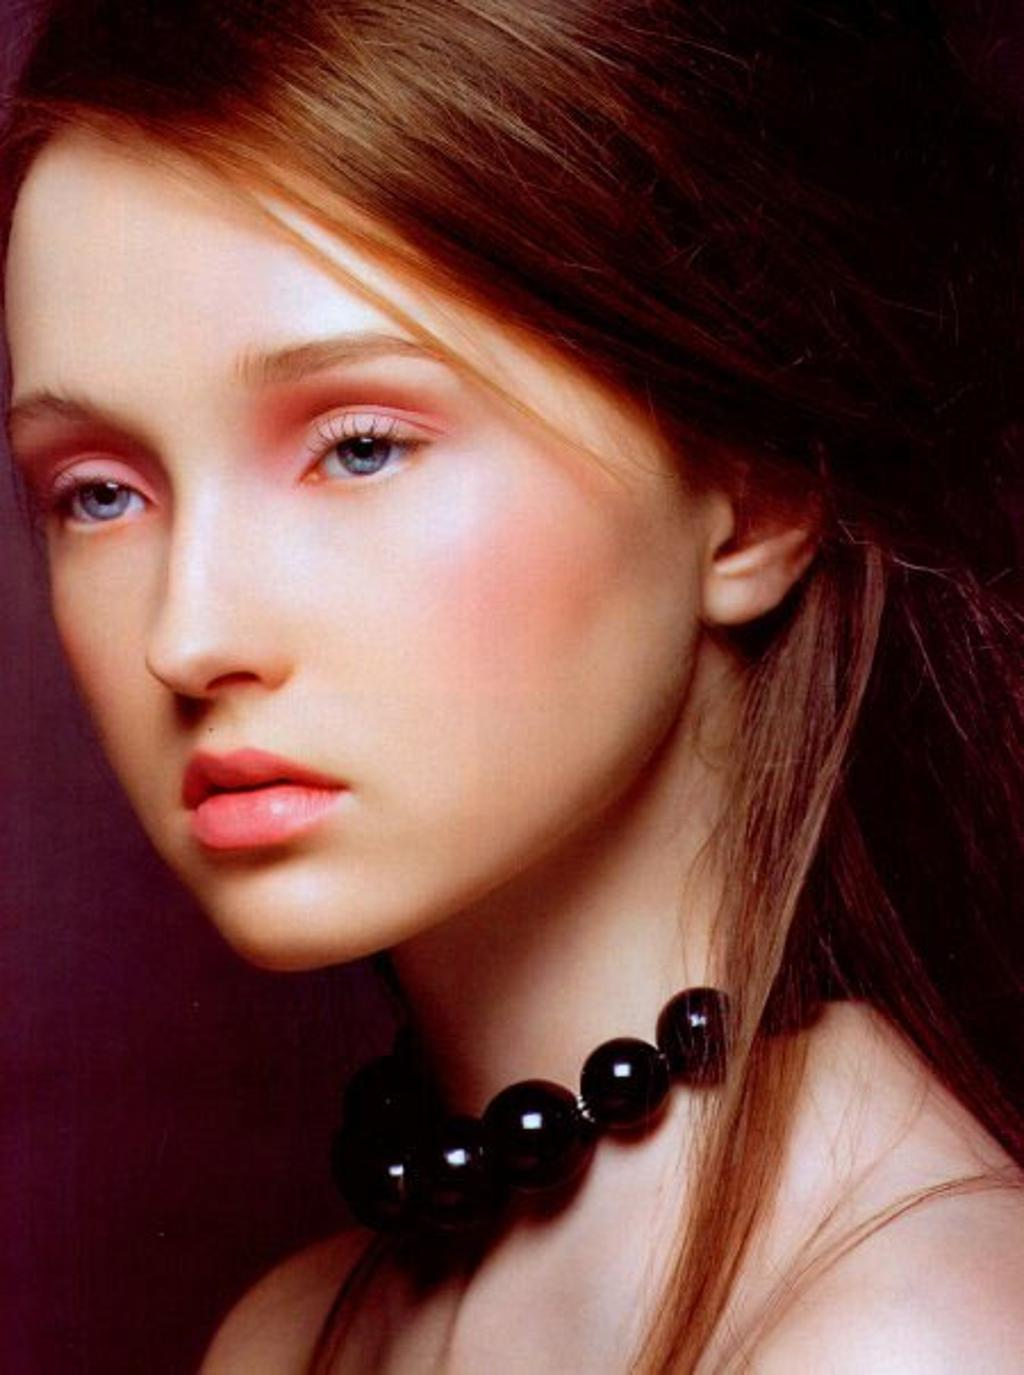face: (3, 126, 704, 951)
